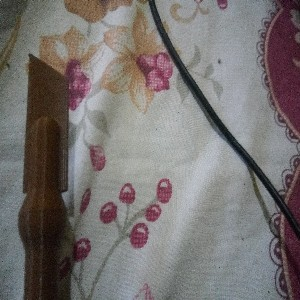cutter: (15, 51, 71, 300)
